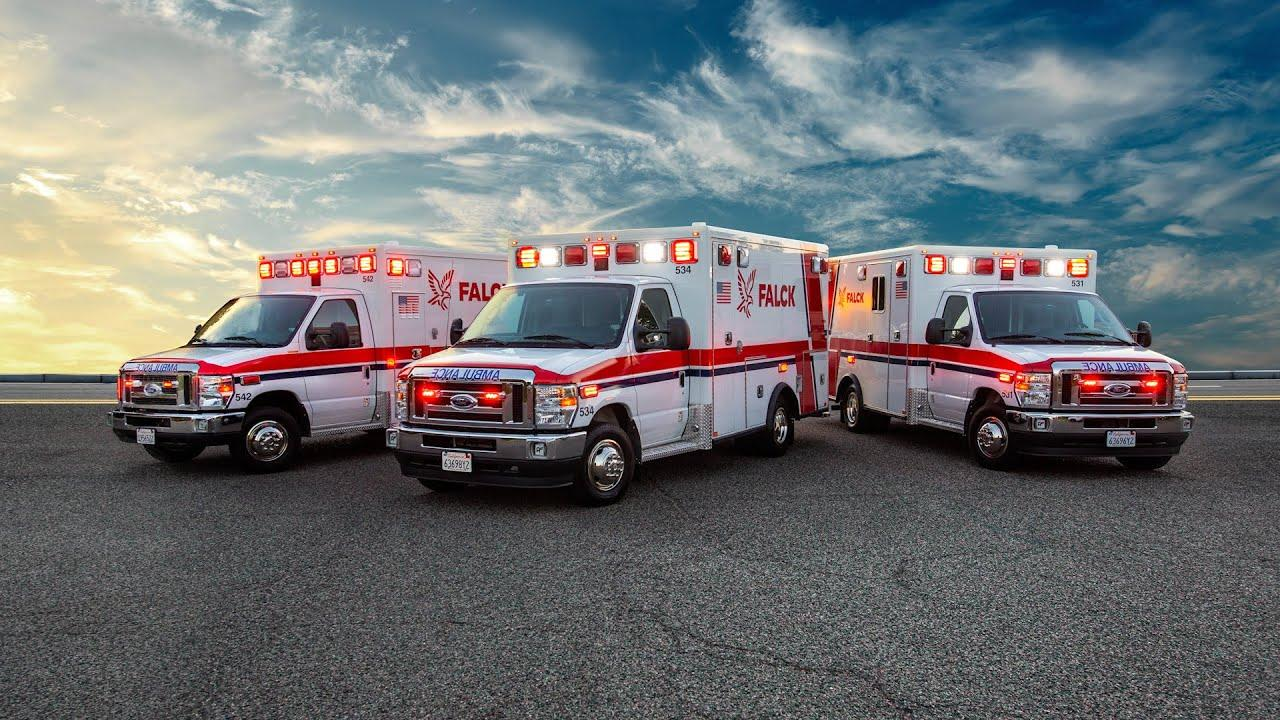ambulance_on: (392, 222, 821, 511), (108, 244, 505, 467), (833, 239, 1189, 465)
